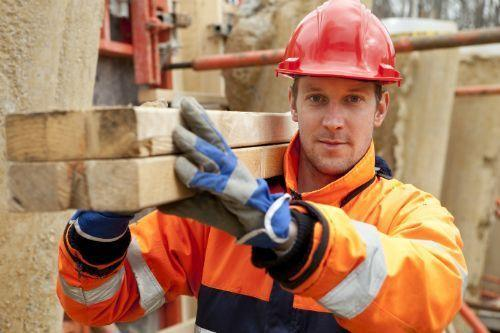helmet: (277, 3, 404, 83)
